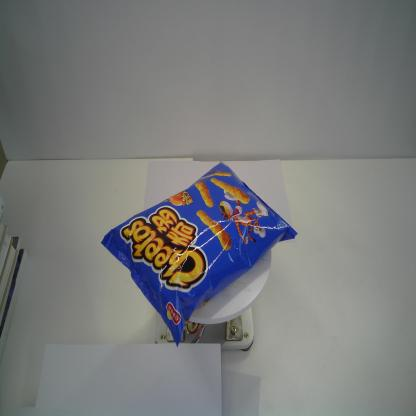Puffed Food: (98, 161, 298, 349)
